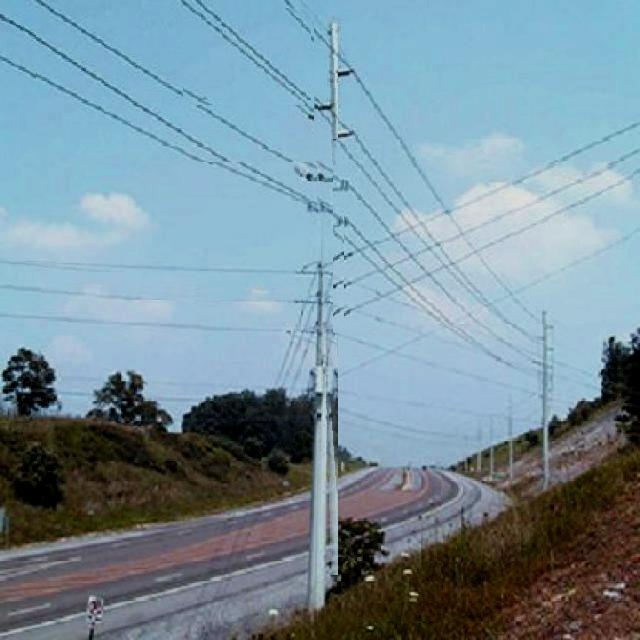pole: (326, 20, 338, 575), (329, 20, 338, 607)
wire: (344, 166, 633, 324), (37, 0, 301, 162), (334, 140, 511, 328), (354, 174, 567, 281), (0, 51, 200, 162), (0, 16, 171, 113), (350, 77, 462, 216), (351, 181, 522, 258), (183, 0, 305, 105), (198, 2, 310, 100), (172, 122, 305, 203), (458, 217, 537, 317), (214, 162, 317, 209), (0, 316, 280, 331), (528, 132, 620, 176), (0, 284, 218, 300), (0, 261, 139, 272)
